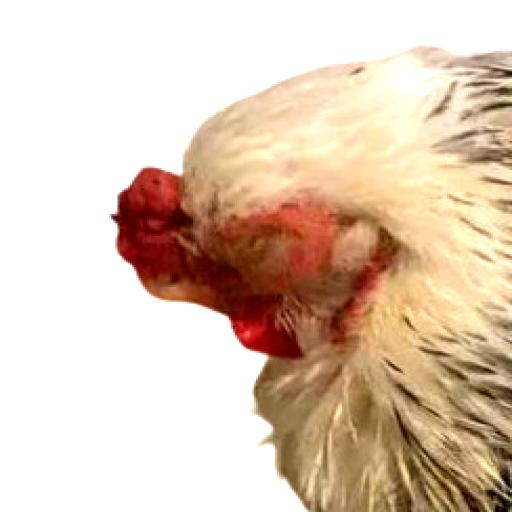disease: (175, 184, 332, 314)
